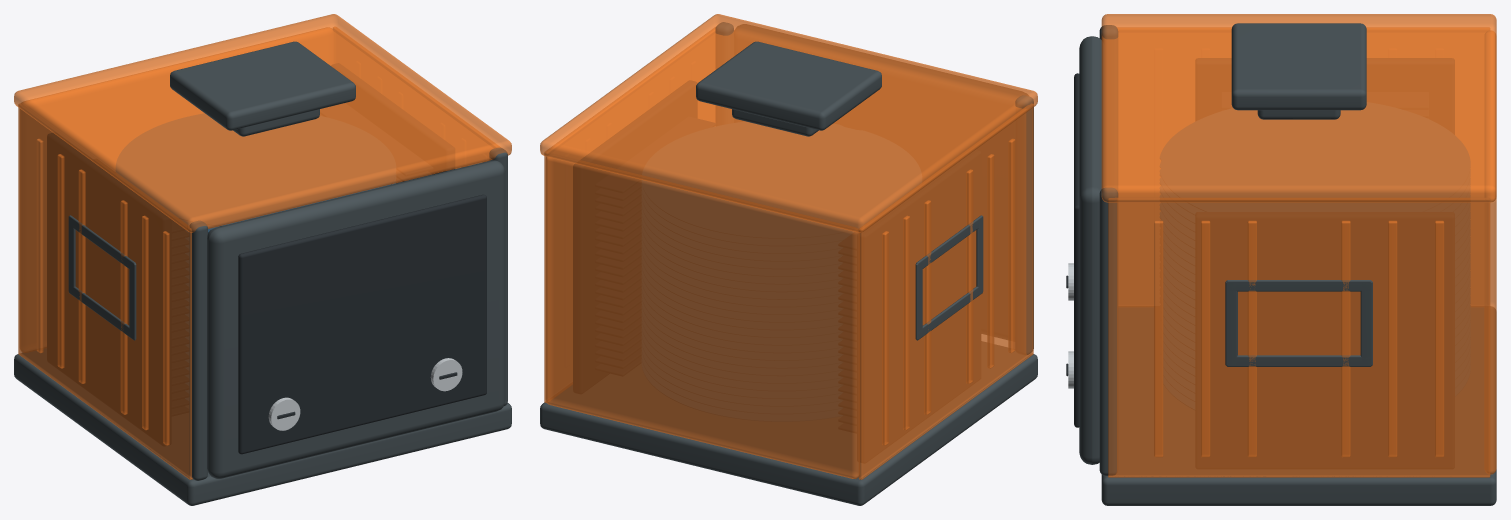
Rendered from FOUP_300mm_Concept.fbx.
The picture shows the model from 3 angles, left to right: view 1: azimuth 30°, elevation 25°; view 2: azimuth 150°, elevation 25°; view 3: azimuth 270°, elevation 25°; orthographic projection. The views are drawn at different scales.
Parts seen in each view (by area): view 1: FOUP_Roof, FOUP_Door_Recess, FOUP_Side, FOUP_Door_Panel, Wafer_25, FOUP_Rack_Spine, FOUP_Base, FOUP_Back, FOUP_OHT_Grip_Flange, FOUP_Side.001, FOUP_Front_Jamb, FOUP_Rack_Spine.001 (+5 smaller); view 2: FOUP_Back, FOUP_Roof, FOUP_Side, FOUP_Base, Wafer_25, FOUP_Rack_Spine, FOUP_Door_Panel, FOUP_Side.001, FOUP_OHT_Grip_Flange, FOUP_Rack_Spine.001, FOUP_Front_Jamb, Slot_25_Support.001 (+26 smaller); view 3: FOUP_Side.001, FOUP_Roof, FOUP_Rack_Spine.001, FOUP_Base, Wafer_25, FOUP_Side, FOUP_OHT_Grip_Flange, FOUP_Door_Panel, FOUP_Rack_Spine, FOUP_Front_Jamb.001, FOUP_Back, FOUP_Door_Recess (+4 smaller).
Boxes of the visible parts, x1=… form: FOUP_Roof: x1=14, y1=14, x2=511, y2=232; FOUP_Door_Recess: x1=238, y1=194, x2=486, y2=454; FOUP_Side: x1=18, y1=103, x2=192, y2=479; FOUP_Door_Panel: x1=207, y1=160, x2=505, y2=478; Wafer_25: x1=116, y1=114, x2=395, y2=226; FOUP_Rack_Spine: x1=47, y1=133, x2=170, y2=445; FOUP_Base: x1=14, y1=348, x2=511, y2=505; FOUP_Back: x1=20, y1=27, x2=333, y2=352; FOUP_OHT_Grip_Flange: x1=170, y1=41, x2=355, y2=130; FOUP_Side.001: x1=333, y1=27, x2=500, y2=168; FOUP_Front_Jamb: x1=189, y1=220, x2=207, y2=480; FOUP_Rack_Spine.001: x1=332, y1=63, x2=454, y2=174; FOUP_Back: x1=545, y1=153, x2=859, y2=478; FOUP_Roof: x1=540, y1=14, x2=1037, y2=232; FOUP_Side: x1=858, y1=104, x2=1033, y2=479; FOUP_Base: x1=540, y1=342, x2=1037, y2=505; Wafer_25: x1=642, y1=122, x2=921, y2=237; FOUP_Rack_Spine: x1=857, y1=150, x2=980, y2=462; FOUP_Door_Panel: x1=734, y1=24, x2=1028, y2=339; FOUP_Side.001: x1=544, y1=27, x2=715, y2=402; FOUP_OHT_Grip_Flange: x1=696, y1=41, x2=881, y2=130; FOUP_Rack_Spine.001: x1=573, y1=81, x2=696, y2=393; FOUP_Front_Jamb: x1=1015, y1=95, x2=1033, y2=354; Slot_25_Support.001: x1=595, y1=117, x2=715, y2=192; FOUP_Side.001: x1=1108, y1=198, x2=1490, y2=477; FOUP_Roof: x1=1101, y1=14, x2=1496, y2=202; FOUP_Rack_Spine.001: x1=1196, y1=212, x2=1454, y2=468; FOUP_Base: x1=1101, y1=307, x2=1496, y2=505; Wafer_25: x1=1160, y1=102, x2=1469, y2=211; FOUP_Side: x1=1117, y1=27, x2=1489, y2=306; FOUP_OHT_Grip_Flange: x1=1231, y1=23, x2=1366, y2=110; FOUP_Door_Panel: x1=1079, y1=36, x2=1104, y2=464; FOUP_Rack_Spine: x1=1196, y1=58, x2=1454, y2=134; FOUP_Front_Jamb.001: x1=1099, y1=187, x2=1118, y2=475; FOUP_Back: x1=1484, y1=30, x2=1496, y2=474; FOUP_Door_Recess: x1=1074, y1=73, x2=1079, y2=427.
Size of the model in its own units: 40 by 38.6 by 41.4.
